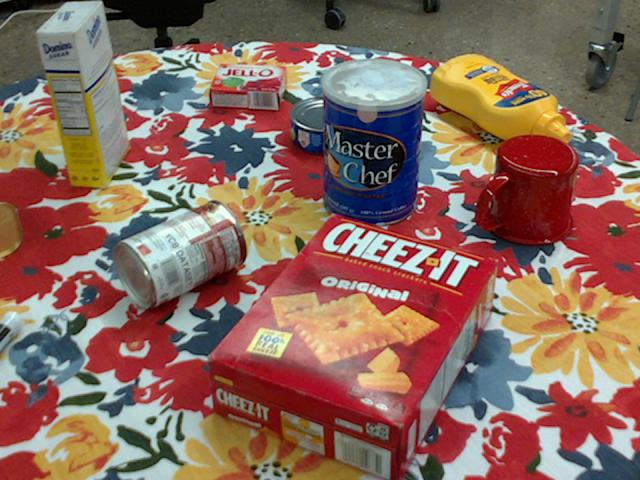cracker_box: (204, 217, 497, 479)
gelatin_box: (206, 66, 286, 112)
large_marker: (0, 310, 23, 349)
master_chef_can: (322, 59, 428, 228)
mug: (478, 135, 579, 247)
mustard_bottle: (429, 54, 570, 147)
potted_meat_can: (0, 201, 21, 256)
sugar_box: (37, 0, 129, 186)
tomato_soup_can: (111, 200, 245, 310)
tuna_fish_can: (289, 97, 362, 155)
